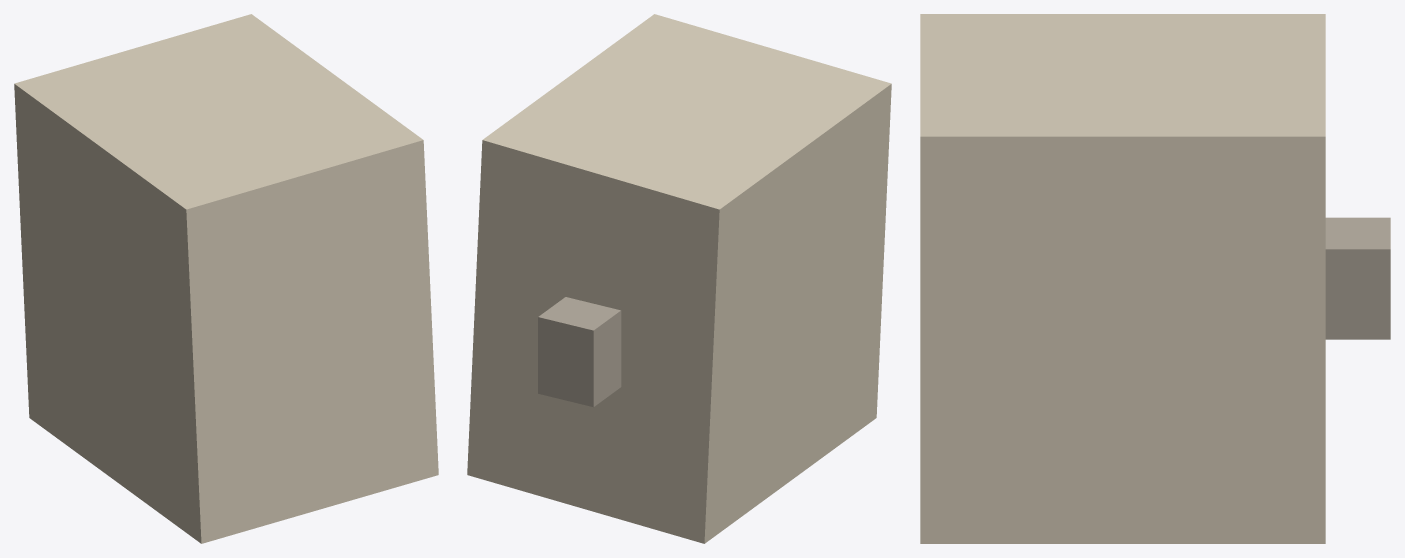
File: historic-palestine-10_36_3516_3309.glb
3 renders of one model, left to right at view 1: azimuth 30°, elevation 25°; view 2: azimuth 150°, elevation 25°; view 3: azimuth 270°, elevation 25°, orthographic. The views are drawn at different scales.
Parts seen in each view (by area): view 1: Building_; view 2: Building_, Roof access hut; view 3: Building_, Roof access hut.
Part boxes in pixels (x1,y1,x2,y2): Building_: (14, 14, 438, 543); Building_: (467, 14, 891, 543); Roof access hut: (538, 297, 621, 407); Building_: (920, 14, 1325, 543); Roof access hut: (1325, 217, 1390, 339).
Bounding box in the file's own units: 6.35 × 8.41 × 8.7.
